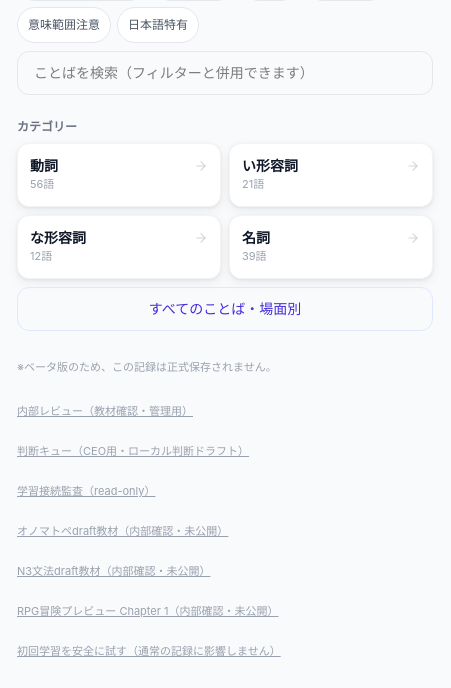
Test: サンドボックス入口 › 動作中は検証モードであることを常に表示する
(page scrolled)
Click the button "初回学習を安全に試す（通常の記録に影響しません）" at x=225, y=651, box x1=17 y1=631 x2=433 y2=671
(page scrolled)
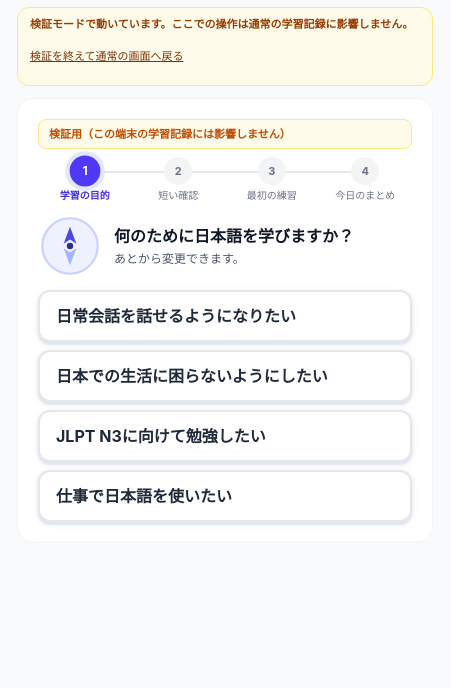
Expected: the text "検証モードで動いています。ここでの操作は通常の学習記録に影響しません。" is shown, x1=30 y1=16 x2=420 y2=32
